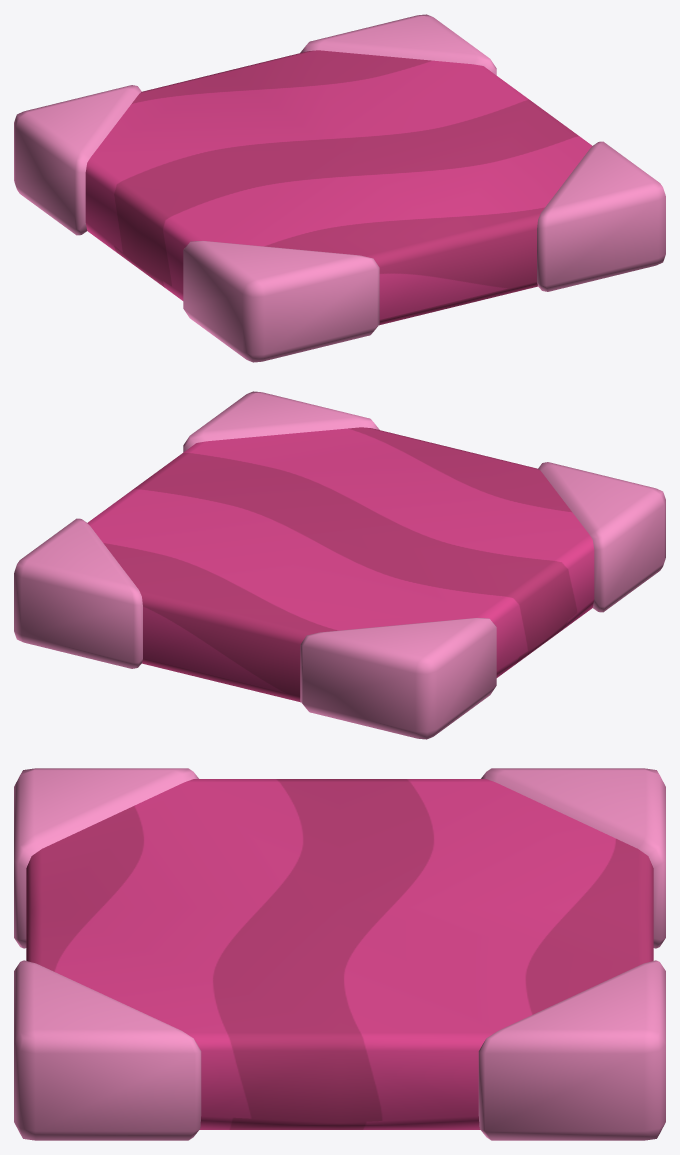
The model's file is rubber.glb.
3 views of the same model, one above another, from view 1: azimuth 30°, elevation 25°; view 2: azimuth 150°, elevation 25°; view 3: azimuth 270°, elevation 25° (orthographic). The views are drawn at different scales.
Parts seen in each view (by area): view 1: rubber; view 2: rubber; view 3: rubber.
Part boxes in pixels (x1=…): rubber: x1=14, y1=14, x2=665, y2=362; rubber: x1=14, y1=391, x2=665, y2=739; rubber: x1=14, y1=768, x2=665, y2=1140.
Bounding box in the file's own units: 0.1641 × 0.0303 × 0.1639.
Materials: 1 (1 with a texture image).
